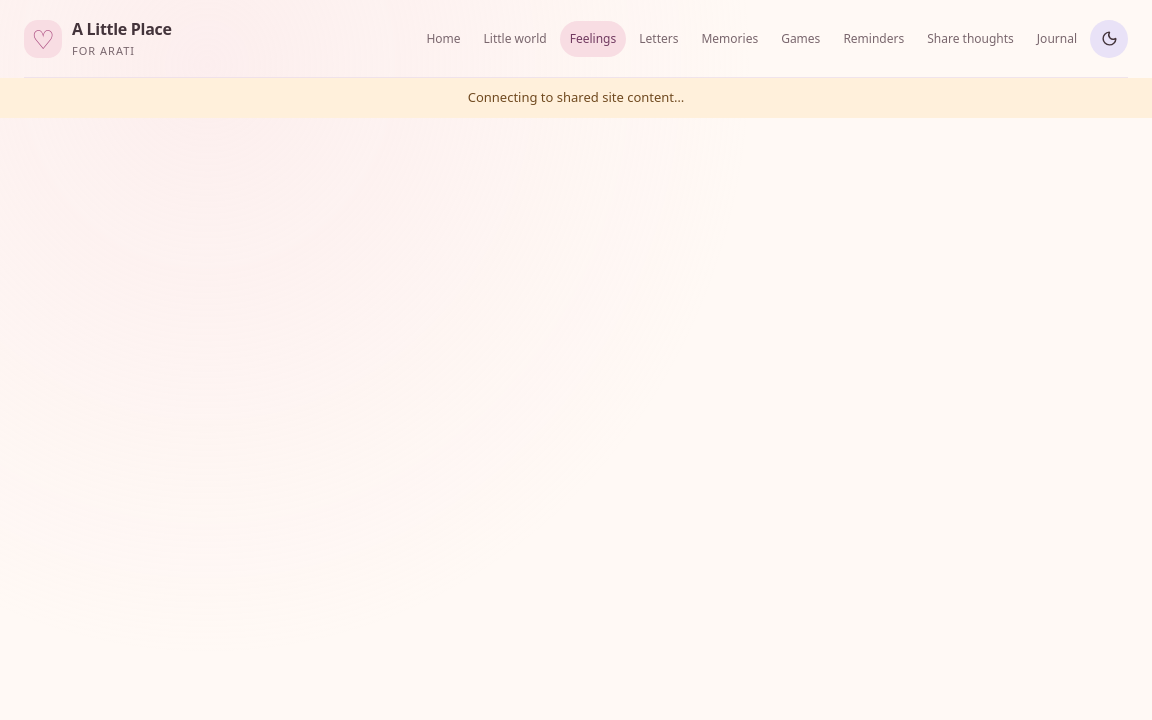
the local website › keeps the superadmin editor off public navigation and footer
Click the link "Feelings" at (593, 38), box [560,20,626,56]
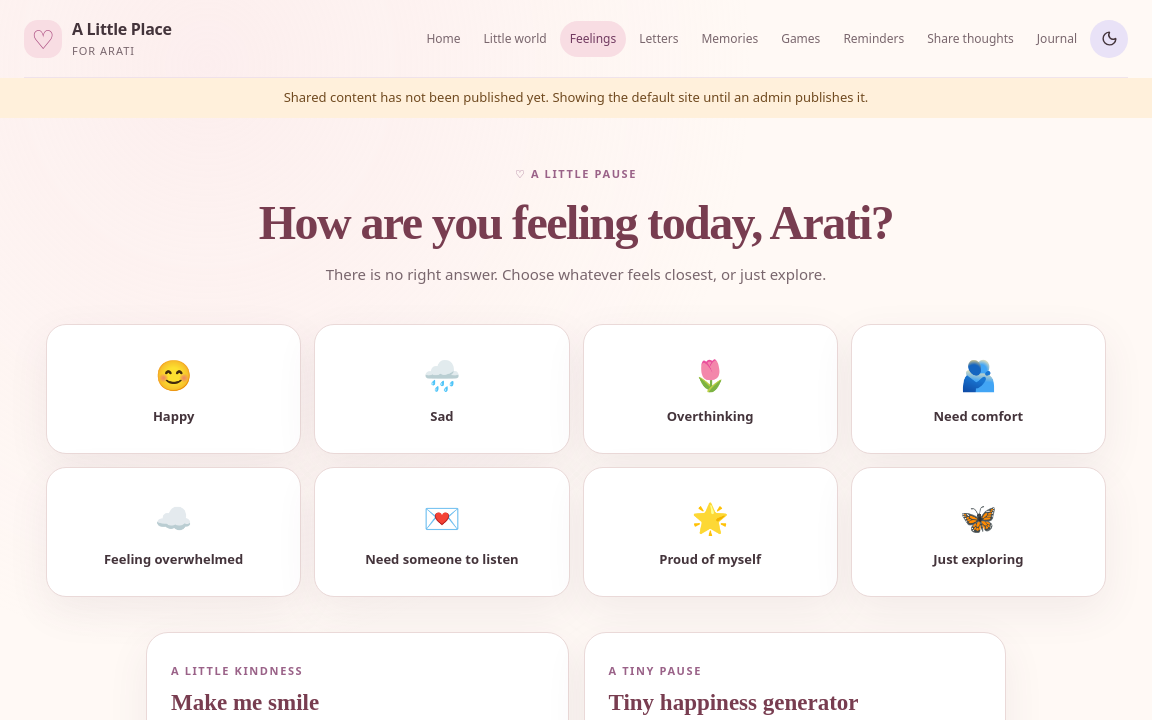
Expected: the heading "How are you feeling today, Arati?" is shown, [206,196,946,249]
